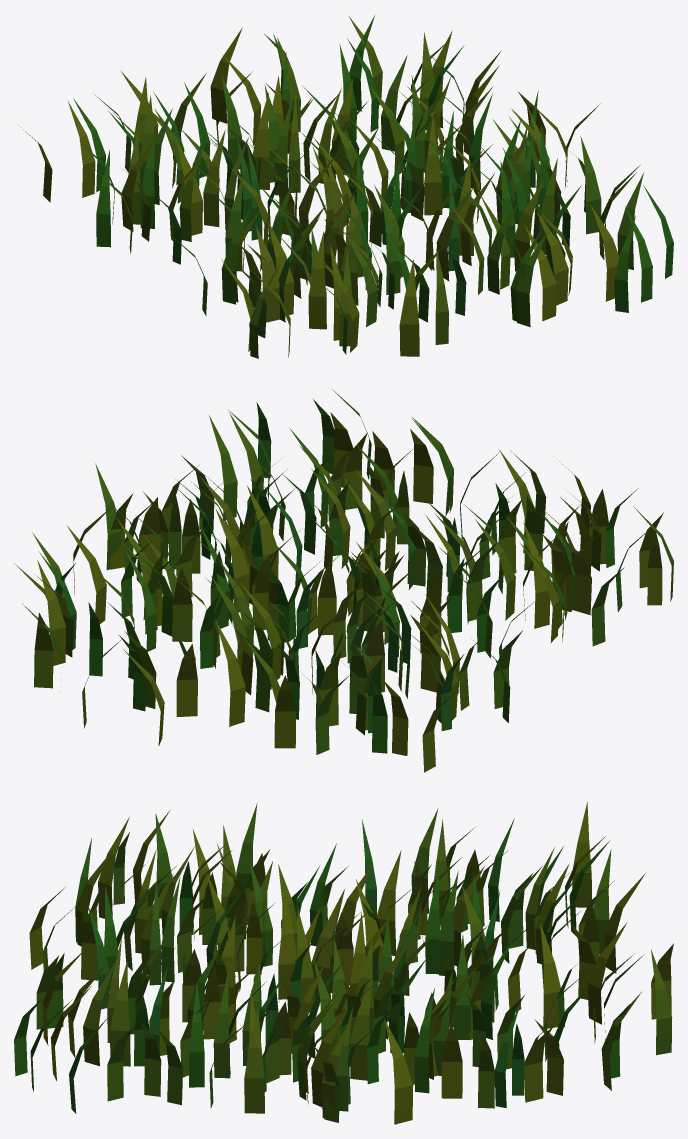
File: tallgrass_high.fbx
The picture shows the model from 3 angles, top to bottom: view 1: azimuth 30°, elevation 25°; view 2: azimuth 150°, elevation 25°; view 3: azimuth 270°, elevation 25°; orthographic projection. The views are drawn at different scales.
Parts seen in each view (by area): view 1: grass_1_0_1; view 2: grass_1_0_1; view 3: grass_1_0_1.
Part boxes in pixels (left/top/right/bottom): grass_1_0_1: left=18, top=15, right=673, bottom=358; grass_1_0_1: left=14, top=389, right=673, bottom=772; grass_1_0_1: left=14, top=802, right=673, bottom=1124.
Bounding box in the file's own units: 1229 × 214 × 1409.
